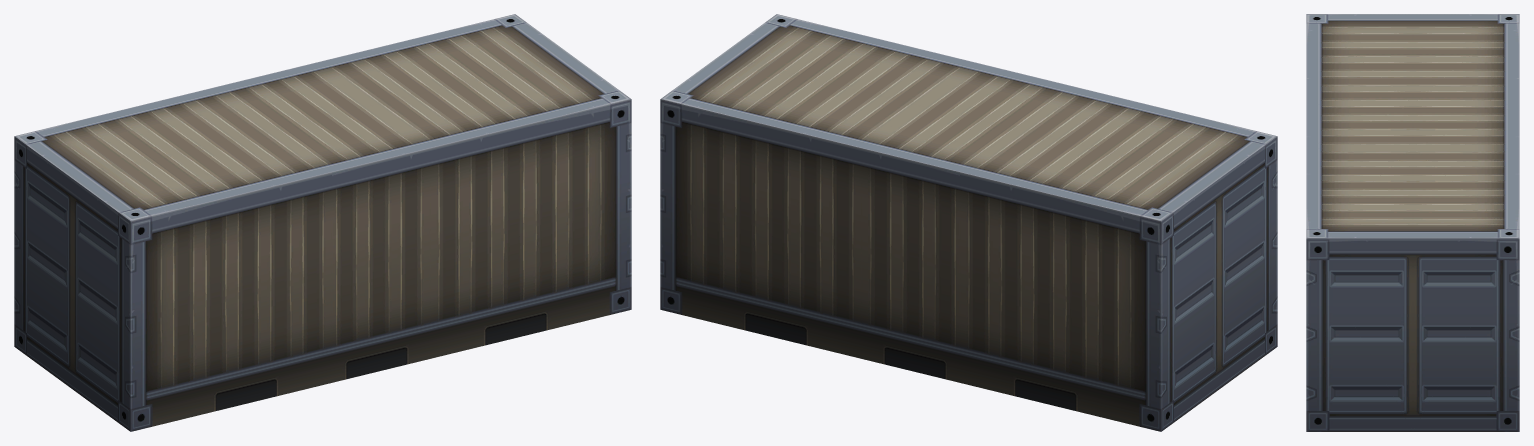
File: SYJ_jizhuangxiang01.FBX
3 views of the same model, side by side, from view 1: azimuth 30°, elevation 25°; view 2: azimuth 150°, elevation 25°; view 3: azimuth 270°, elevation 25° (orthographic). The views are drawn at different scales.
Visible parts, largest first — view 1: SYJ_jizhuangxiang01; view 2: SYJ_jizhuangxiang01; view 3: SYJ_jizhuangxiang01.
Part boxes in pixels (x1,y1,x2,y2): SYJ_jizhuangxiang01: [14, 14, 631, 431]; SYJ_jizhuangxiang01: [660, 14, 1277, 431]; SYJ_jizhuangxiang01: [1306, 14, 1519, 431].
Bounding box in the file's own units: 447 × 180 × 180.
